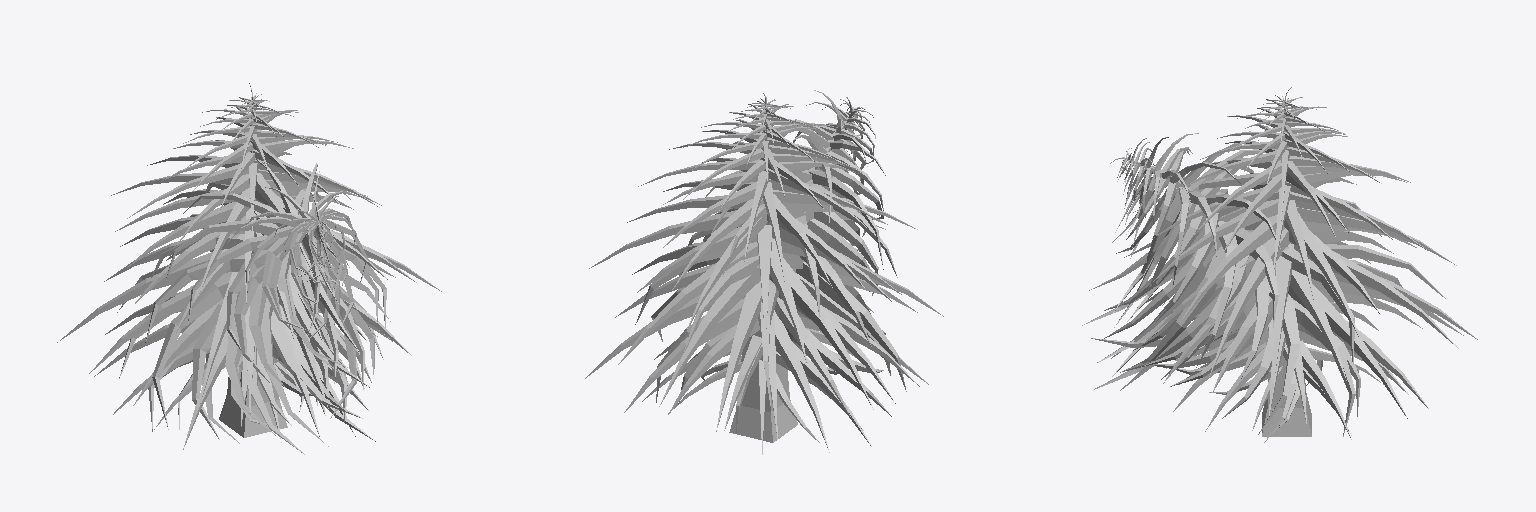
File: attacktree.obj
3 renders of one model, left to right at view 1: azimuth 30°, elevation 25°; view 2: azimuth 150°, elevation 25°; view 3: azimuth 270°, elevation 25°, orthographic.
Parts seen in each view (by area): view 1: treemesh.001_treemesh.004, treemesh_treemesh.003; view 2: treemesh_treemesh.003, treemesh.001_treemesh.004; view 3: treemesh_treemesh.003, treemesh.001_treemesh.004.
Boxes of the visible parts, box(x1,y1,x2,y2) form: treemesh.001_treemesh.004: box(117, 158, 390, 454); treemesh_treemesh.003: box(57, 83, 441, 449); treemesh_treemesh.003: box(585, 93, 943, 454); treemesh.001_treemesh.004: box(635, 90, 906, 442); treemesh_treemesh.003: box(1111, 87, 1477, 439); treemesh.001_treemesh.004: box(1082, 133, 1445, 442).
Bounding box in the file's own units: 32.3 × 34.35 × 36.69.